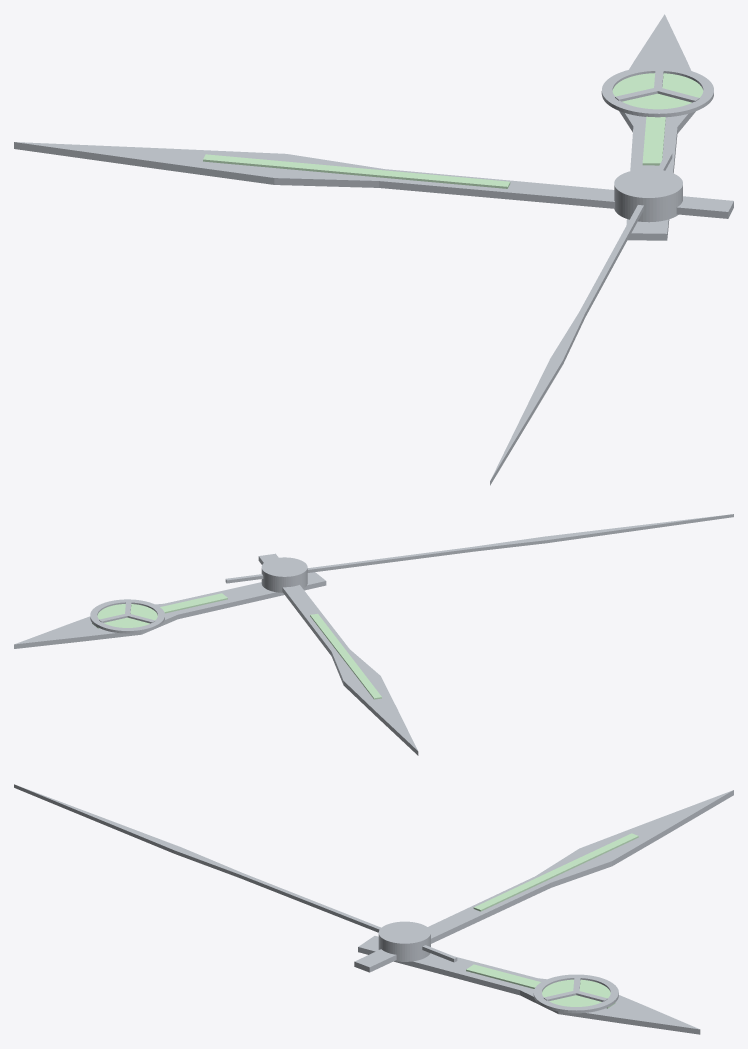
The model's file is hands-mercedes-42.glb.
3 renders of one model, top to bottom at view 1: azimuth 30°, elevation 25°; view 2: azimuth 150°, elevation 25°; view 3: azimuth 270°, elevation 25°, orthographic. The views are drawn at different scales.
Parts seen in each view (by area): view 1: DD_HAND_MINUTE, DD_HAND_HOUR, DD_HAND_HUB, DD_HAND_SECONDS, DD_HAND_MINUTE_LUME, DD_HAND_HOUR_MERCEDES_RIM, DD_HAND_HOUR_MERCEDES_LUME, DD_HAND_HOUR_LUME; view 2: DD_HAND_MINUTE, DD_HAND_HOUR, DD_HAND_SECONDS, DD_HAND_HUB, DD_HAND_HOUR_MERCEDES_RIM, DD_HAND_HOUR_MERCEDES_LUME, DD_HAND_MINUTE_LUME, DD_HAND_HOUR_LUME; view 3: DD_HAND_MINUTE, DD_HAND_HOUR, DD_HAND_SECONDS, DD_HAND_HUB, DD_HAND_MINUTE_LUME, DD_HAND_HOUR_MERCEDES_RIM, DD_HAND_HOUR_MERCEDES_LUME, DD_HAND_HOUR_LUME.
Boxes of the visible parts, x1,y1,x2,y2 form: DD_HAND_MINUTE: (14,142,733,218); DD_HAND_HOUR: (619,14,695,240); DD_HAND_HUB: (614,169,682,222); DD_HAND_SECONDS: (490,153,672,485); DD_HAND_MINUTE_LUME: (203,154,510,188); DD_HAND_HOUR_MERCEDES_RIM: (601,66,713,117); DD_HAND_HOUR_MERCEDES_LUME: (612,73,703,109); DD_HAND_HOUR_LUME: (642,116,665,165); DD_HAND_MINUTE: (258,553,418,755); DD_HAND_HOUR: (14,572,326,648); DD_HAND_SECONDS: (225,514,733,583); DD_HAND_HUB: (261,557,307,592); DD_HAND_HOUR_MERCEDES_RIM: (90,599,164,633); DD_HAND_HOUR_MERCEDES_LUME: (97,604,157,627); DD_HAND_MINUTE_LUME: (310,613,381,699); DD_HAND_HOUR_LUME: (92,593,227,628); DD_HAND_MINUTE: (354,790,733,972); DD_HAND_HOUR: (358,936,700,1034); DD_HAND_SECONDS: (14,784,457,962); DD_HAND_HUB: (378,921,430,961); DD_HAND_MINUTE_LUME: (473,833,638,911); DD_HAND_HOUR_MERCEDES_RIM: (533,974,618,1013); DD_HAND_HOUR_MERCEDES_LUME: (542,979,610,1006); DD_HAND_HOUR_LUME: (466,964,615,1008).
Bounding box in the file's own units: 14.21 × 0.685 × 18.59.
